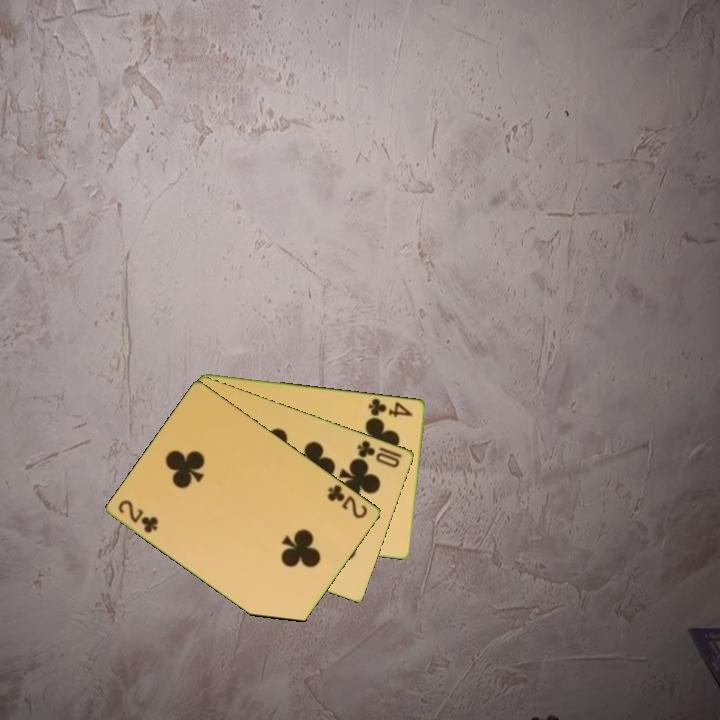10c: (354, 437, 405, 470)
2c: (324, 481, 371, 522), (115, 496, 162, 536)
4c: (365, 395, 416, 420)
